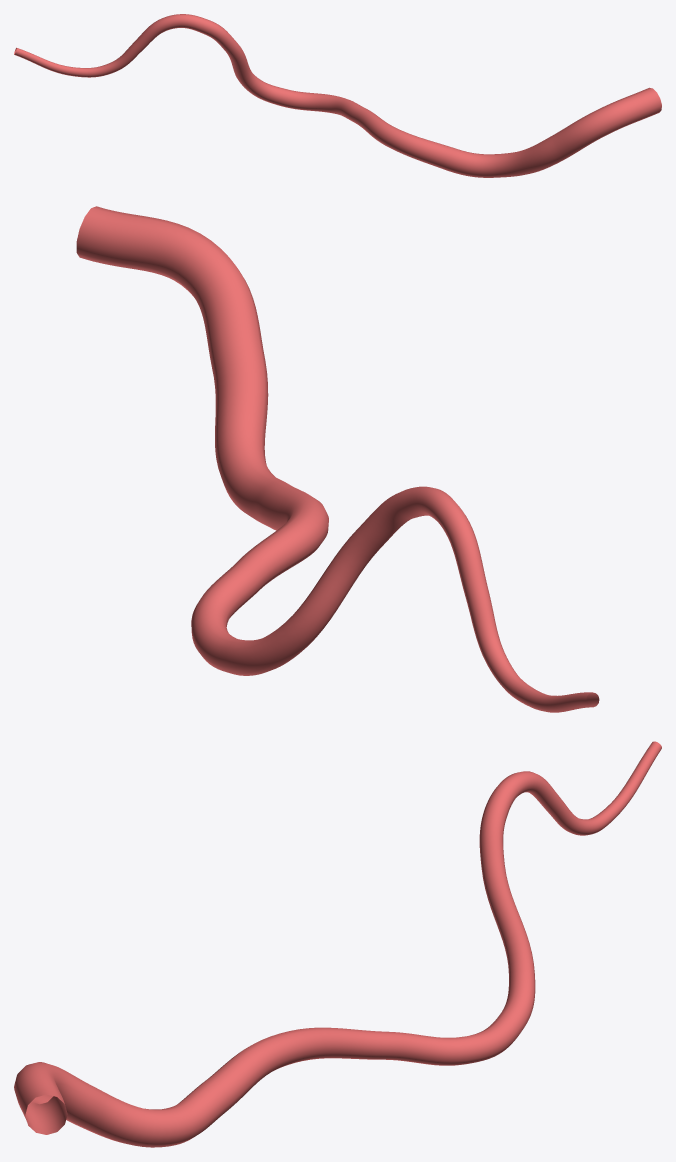
The model's file is Anterior_inferior_cerebellar_artery.r_BezierCurve.238.glb.
3 views of the same model, one above another, from view 1: azimuth 30°, elevation 25°; view 2: azimuth 150°, elevation 25°; view 3: azimuth 270°, elevation 25° (orthographic). The views are drawn at different scales.
Visible parts, largest first — view 1: Anterior_inferior_cerebellar_artery.r_BezierCurve.238; view 2: Anterior_inferior_cerebellar_artery.r_BezierCurve.238; view 3: Anterior_inferior_cerebellar_artery.r_BezierCurve.238.
Boxes of the visible parts, x1,y1,x2,y2 form: Anterior_inferior_cerebellar_artery.r_BezierCurve.238: [14, 14, 661, 177]; Anterior_inferior_cerebellar_artery.r_BezierCurve.238: [76, 206, 599, 712]; Anterior_inferior_cerebellar_artery.r_BezierCurve.238: [14, 741, 661, 1147].
Bounding box in the file's own units: 0.0346 × 0.00983 × 0.0273.
